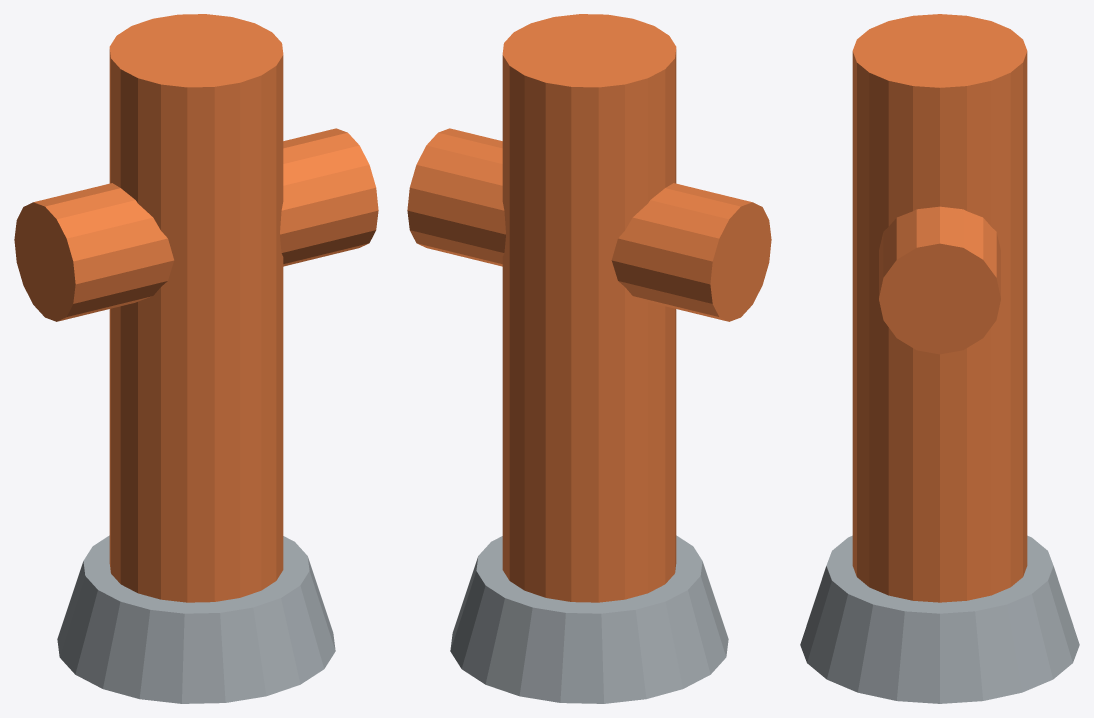
Rendered from long-haul-trucking-and-truck-stop-yard-hydrant-9fd4d151__14000.glb.
The picture shows the model from 3 angles, left to right: view 1: azimuth 30°, elevation 25°; view 2: azimuth 150°, elevation 25°; view 3: azimuth 270°, elevation 25°; orthographic projection.
Visible parts, largest first — view 1: yard-hydrant; view 2: yard-hydrant; view 3: yard-hydrant.
Part boxes in pixels (x1,y1,x2,y2): yard-hydrant: (14,14,378,703); yard-hydrant: (407,14,771,703); yard-hydrant: (800,14,1079,703).
Bounding box in the file's own units: 0.4 × 0.75 × 0.32.
